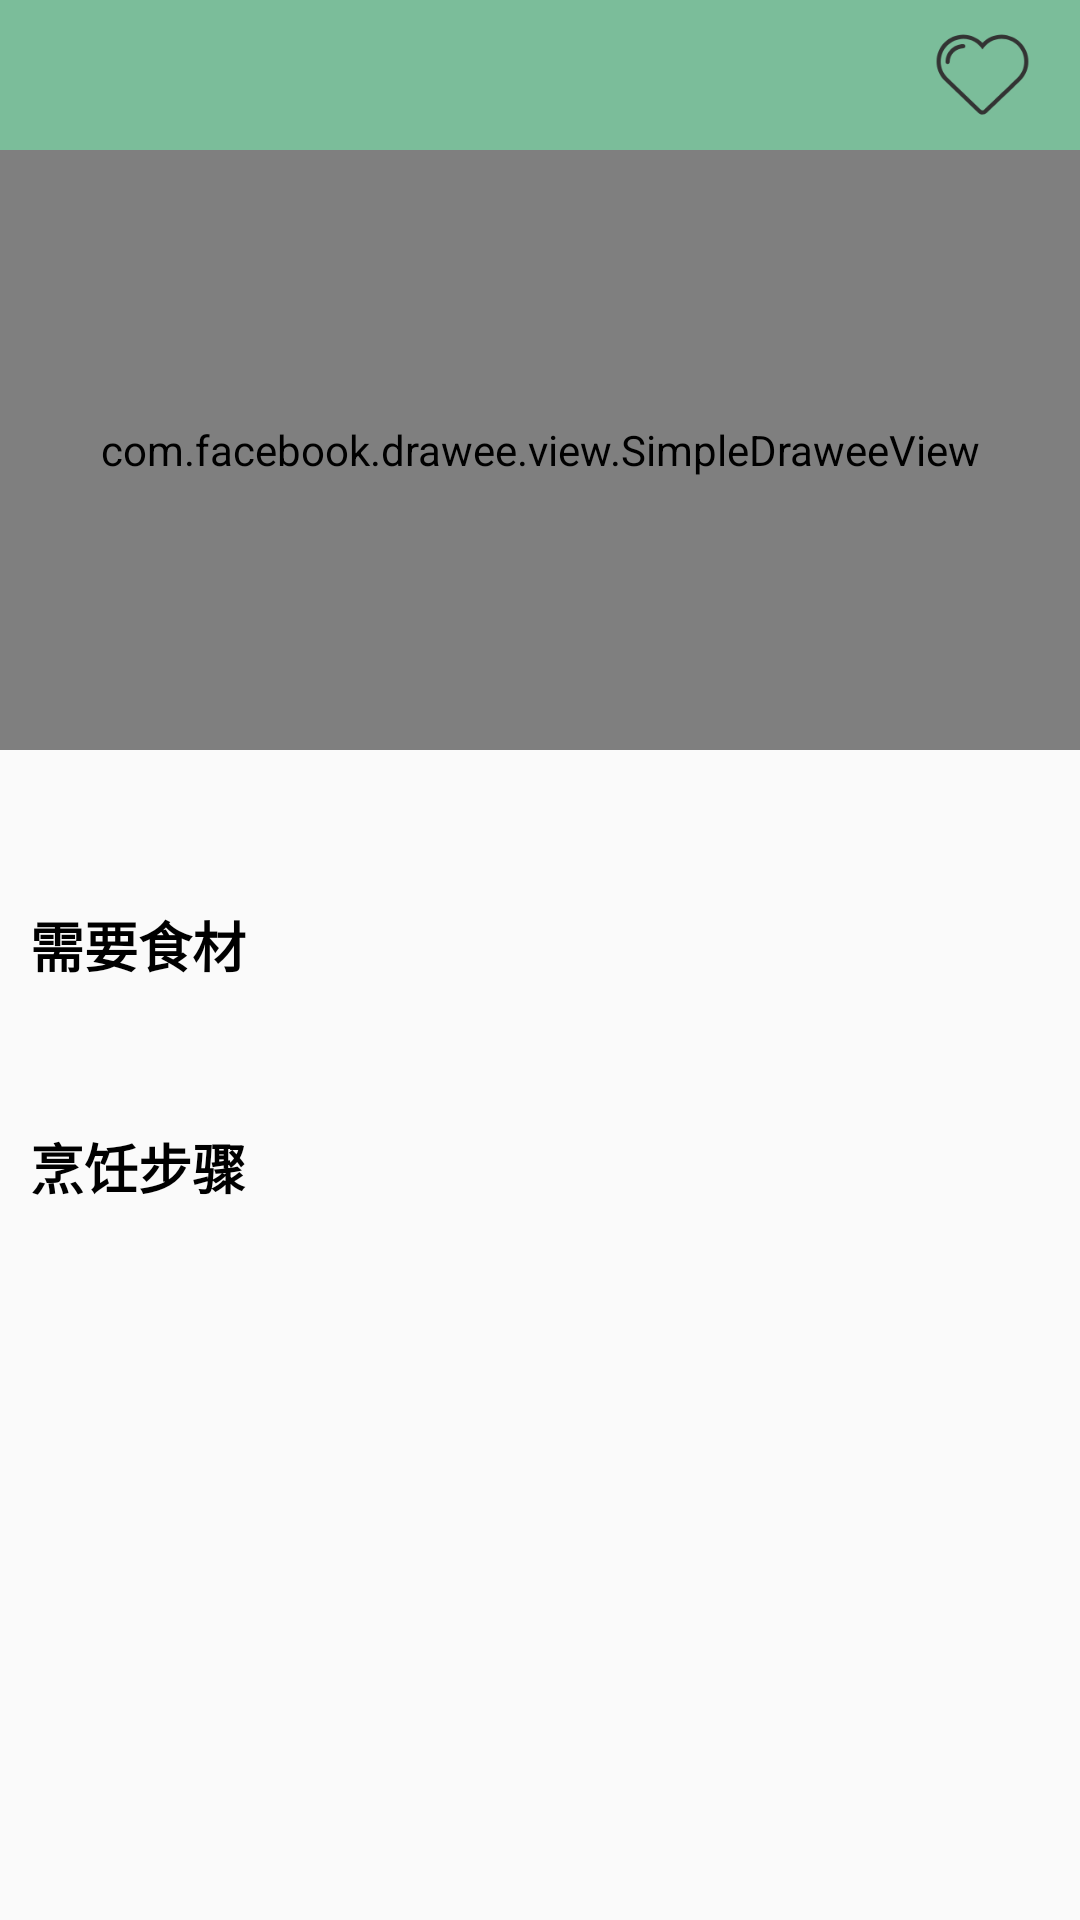

Locate icon controls on the screen. Image size 1080w x 1920h, boxes as (x1, y1, x2, y2).
dish collect: (936, 34, 1029, 115)
